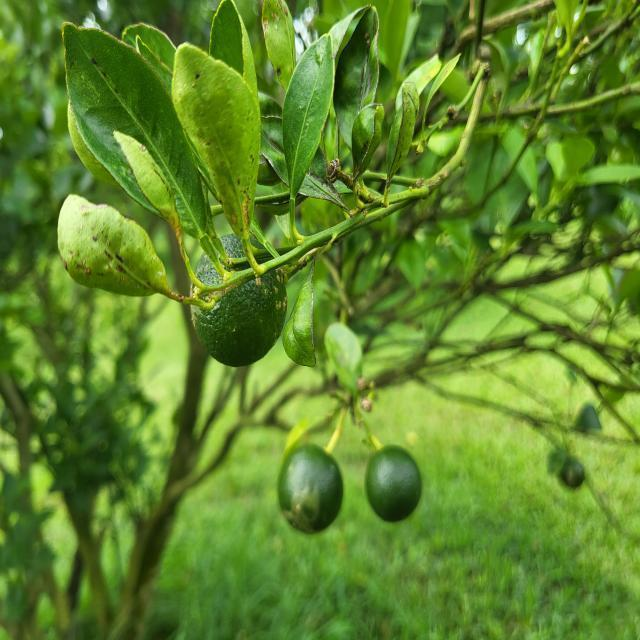thrips: (194, 259, 299, 370), (267, 434, 350, 540)
